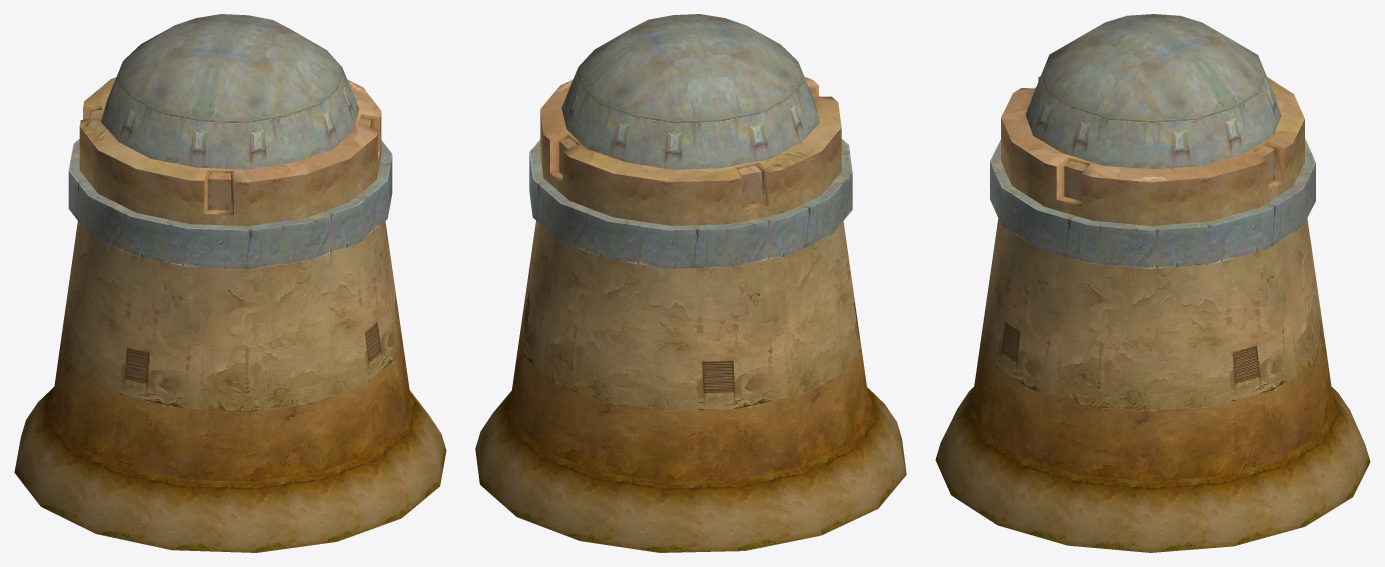
The model's file is all_arch_und_med_center_wing.glb.
3 views of the same model, side by side, from view 1: azimuth 30°, elevation 25°; view 2: azimuth 150°, elevation 25°; view 3: azimuth 270°, elevation 25° (orthographic).
Parts seen in each view (by area): view 1: all_arch_und_med_center_wing; view 2: all_arch_und_med_center_wing; view 3: all_arch_und_med_center_wing.
Boxes of the visible parts, <box> form: all_arch_und_med_center_wing: <box>14,14,446,552</box>; all_arch_und_med_center_wing: <box>475,14,906,552</box>; all_arch_und_med_center_wing: <box>935,14,1370,552</box>.
Bounding box in the file's own units: 2.02 × 2.21 × 2.02.
5 materials, 5 textured.
